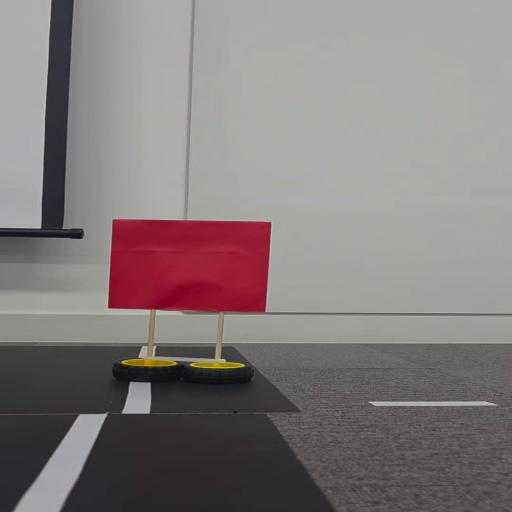Sign_A: (100, 213, 281, 388)
